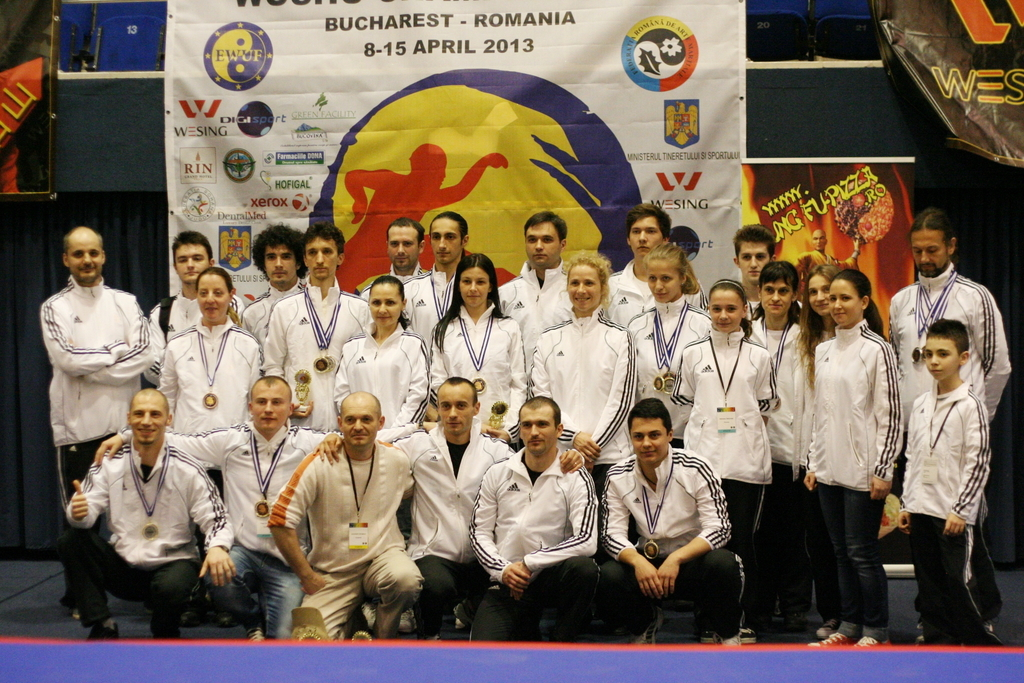Person: (40, 203, 1011, 646)
